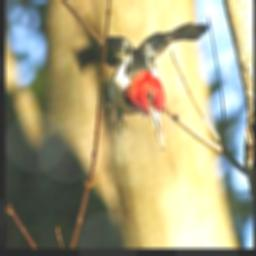Woodpecker: (74, 10, 216, 153)
